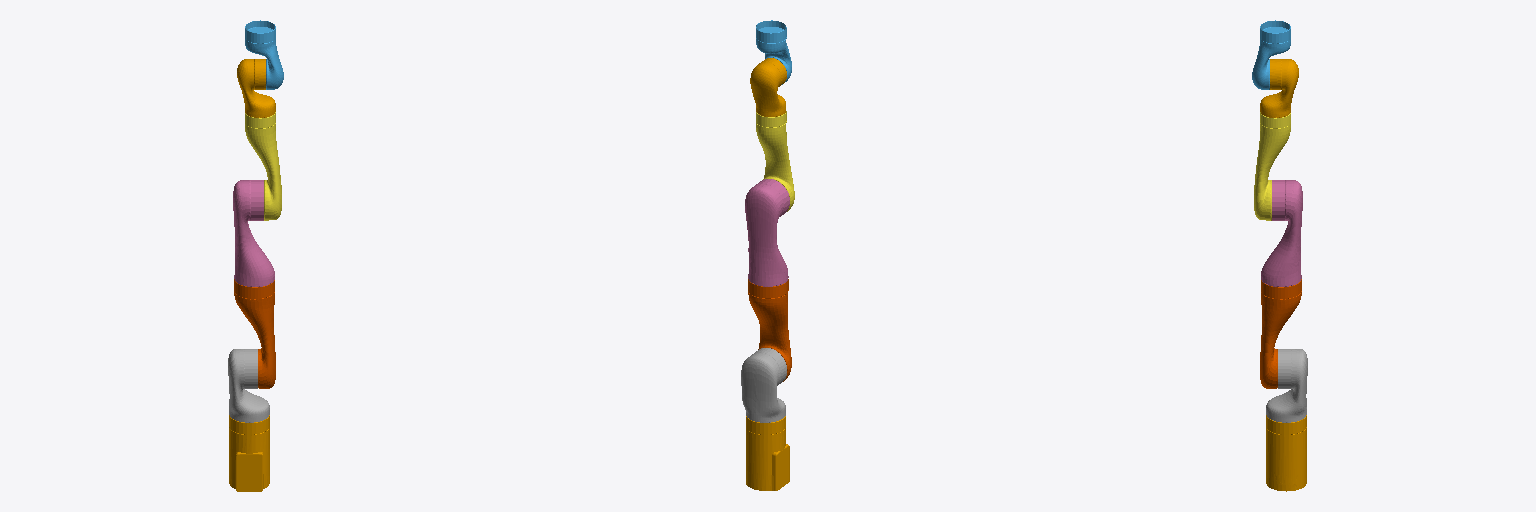
robot.urdf — gen3:
<?xml version="1.0" encoding="UTF-8"?>
<robot name="gen3">
  <joint name="end_effector" type="fixed">
    <origin xyz="-0.061525 -0. 0. " rpy="3.1415927 0. -0. "/>
    <parent link="bracelet_link"/>
    <child link="end_effector_link"/>
  </joint>
  <joint name="joint_1" type="continuous">
    <origin xyz="0. 0. 0.15643" rpy="-1.5707964 1.5707891 1.5707964"/>
    <parent link="base_link"/>
    <child link="shoulder_link"/>
    <axis xyz="1. 0. 0."/>
  </joint>
  <joint name="joint_2" type="revolute">
    <origin xyz="-0.12838 0.005375 0. " rpy="0. 0. -1.5708"/>
    <parent link="shoulder_link"/>
    <child link="half_arm_1_link"/>
    <axis xyz="1. 0. 0."/>
    <limit lower="-2.4099999" upper="2.4099999" effort="2340." velocity="1.3963"/>
  </joint>
  <joint name="joint_3" type="continuous">
    <origin xyz="-0.006375 -0.21038 0. " rpy="0. 0. 1.5707998"/>
    <parent link="half_arm_1_link"/>
    <child link="half_arm_2_link"/>
    <axis xyz="1. 0. 0."/>
  </joint>
  <joint name="joint_4" type="revolute">
    <origin xyz="-0.21038 0.006375 0. " rpy="0. 0. -1.5707998"/>
    <parent link="half_arm_2_link"/>
    <child link="forearm_link"/>
    <axis xyz="1. 0. 0."/>
    <limit lower="-2.6599999" upper="2.6599999" effort="2340." velocity="1.3963"/>
  </joint>
  <joint name="joint_5" type="continuous">
    <origin xyz="-0.006375 -0.20843 0. " rpy="0. 0. 1.5707998"/>
    <parent link="forearm_link"/>
    <child link="spherical_wrist_1_link"/>
    <axis xyz="1. 0. 0."/>
  </joint>
  <joint name="joint_6" type="revolute">
    <origin xyz="-0.10593 0.0001751 0. " rpy="0. 0. -1.5707998"/>
    <parent link="spherical_wrist_1_link"/>
    <child link="spherical_wrist_2_link"/>
    <axis xyz="1. 0. 0."/>
    <limit lower="-2.2299999" upper="2.2299999" effort="540." velocity="1.2218"/>
  </joint>
  <joint name="joint_7" type="continuous">
    <origin xyz="-0.0001751 -0.10593 0. " rpy="0. 0. 1.5707998"/>
    <parent link="spherical_wrist_2_link"/>
    <child link="bracelet_link"/>
    <axis xyz="1. 0. 0."/>
  </joint>
  <joint name="root_joint" type="fixed">
    <origin xyz="0. 0. 0." rpy="0. 0. 0."/>
    <parent link="gen3"/>
    <child link="base_link"/>
  </joint>
  <link name="base_link">
    <inertial>
      <origin xyz="-0.000648 -0.000166 0.084487" rpy="0. 0. 0."/>
      <mass value="1.697"/>
      <inertia ixx="0.004622" ixy="0." ixz="0." iyy="0.004495" iyz="0." izz="0.002079"/>
    </inertial>
    <visual>
      <origin xyz="0. 0. 0." rpy="0. 0. 0."/>
      <geometry>
        <mesh filename="meshes/base_link_visuals_mesh_0.obj" scale="1. 1. 1."/>
      </geometry>
    </visual>
    <collision>
      <origin xyz="0. 0. 0." rpy="0. 0. 0."/>
      <geometry>
        <mesh filename="meshes/base_link_collisions_mesh_0.obj" scale="1. 1. 1."/>
      </geometry>
    </collision>
  </link>
  <link name="bracelet_link">
    <inertial>
      <origin xyz="-0.000093 0.000132 -0.022905" rpy="0. 0. 0."/>
      <mass value="0.364"/>
      <inertia ixx="0.000214" ixy="0." ixz="0." iyy="0.000223" iyz="0." izz="0.00024"/>
    </inertial>
    <visual>
      <origin xyz="0. 0. 0." rpy="-0.0000001 1.5707964 0. "/>
      <geometry>
        <mesh filename="meshes/bracelet_link_visuals_mesh_0.obj" scale="1. 1. 1."/>
      </geometry>
    </visual>
    <collision>
      <origin xyz="0. 0. 0." rpy="-0.0000001 1.5707964 0. "/>
      <geometry>
        <mesh filename="meshes/bracelet_link_collisions_mesh_0.obj" scale="1. 1. 1."/>
      </geometry>
    </collision>
  </link>
  <link name="end_effector_link">
    <inertial>
      <origin xyz="0. 0. 0." rpy="0. 0. 0."/>
      <mass value="0.0000001"/>
      <inertia ixx="0.001" ixy="0." ixz="0." iyy="0.001" iyz="0." izz="0.001"/>
    </inertial>
  </link>
  <link name="forearm_link">
    <inertial>
      <origin xyz="-0.000018 -0.075478 -0.015006" rpy="0. 0. 0."/>
      <mass value="0.9302"/>
      <inertia ixx="0.008147" ixy="0." ixz="0." iyy="0.000631" iyz="0." izz="0.008316"/>
    </inertial>
    <visual>
      <origin xyz="0. -0. 0." rpy="0.0000001 1.5707964 0. "/>
      <geometry>
        <mesh filename="meshes/forearm_link_visuals_mesh_0.obj" scale="1. 1. 1."/>
      </geometry>
    </visual>
    <collision>
      <origin xyz="0. -0. 0." rpy="0.0000001 1.5707964 0. "/>
      <geometry>
        <mesh filename="meshes/forearm_link_collisions_mesh_0.obj" scale="1. 1. 1."/>
      </geometry>
    </collision>
  </link>
  <link name="gen3"/>
  <link name="half_arm_1_link">
    <inertial>
      <origin xyz="-0.000044 -0.09958 -0.013278" rpy="0. 0. 0."/>
      <mass value="1.1636"/>
      <inertia ixx="0.011088" ixy="0." ixz="0." iyy="0.001072" iyz="0." izz="0.011255"/>
    </inertial>
    <visual>
      <origin xyz="0. 0. 0." rpy="0.0000001 1.5707964 0. "/>
      <geometry>
        <mesh filename="meshes/half_arm_1_link_visuals_mesh_0.obj" scale="1. 1. 1."/>
      </geometry>
    </visual>
    <collision>
      <origin xyz="0. 0. 0." rpy="0.0000001 1.5707964 0. "/>
      <geometry>
        <mesh filename="meshes/half_arm_1_link_collisions_mesh_0.obj" scale="1. 1. 1."/>
      </geometry>
    </collision>
  </link>
  <link name="half_arm_2_link">
    <inertial>
      <origin xyz="-0.000044 -0.006641 -0.117892" rpy="0. 0. 0."/>
      <mass value="1.1636"/>
      <inertia ixx="0.010932" ixy="0." ixz="0." iyy="0.011127" iyz="0." izz="0.001043"/>
    </inertial>
    <visual>
      <origin xyz="0. 0. 0." rpy="-0.0000001 1.5707964 0. "/>
      <geometry>
        <mesh filename="meshes/half_arm_2_link_visuals_mesh_0.obj" scale="1. 1. 1."/>
      </geometry>
    </visual>
    <collision>
      <origin xyz="0. 0. 0." rpy="-0.0000001 1.5707964 0. "/>
      <geometry>
        <mesh filename="meshes/half_arm_2_link_collisions_mesh_0.obj" scale="1. 1. 1."/>
      </geometry>
    </collision>
  </link>
  <link name="shoulder_link">
    <inertial>
      <origin xyz="-0.000023 -0.010364 -0.07336 " rpy="0. 0. 0."/>
      <mass value="1.3773"/>
      <inertia ixx="0.00457" ixy="0." ixz="0." iyy="0.004831" iyz="0." izz="0.001409"/>
    </inertial>
    <visual>
      <origin xyz="0. 0. 0." rpy="0. 1.5707964 0. "/>
      <geometry>
        <mesh filename="meshes/shoulder_link_visuals_mesh_0.obj" scale="1. 1. 1."/>
      </geometry>
    </visual>
    <collision>
      <origin xyz="0. 0. 0." rpy="0. 1.5707964 0. "/>
      <geometry>
        <mesh filename="meshes/shoulder_link_collisions_mesh_0.obj" scale="1. 1. 1."/>
      </geometry>
    </collision>
  </link>
  <link name="spherical_wrist_1_link">
    <inertial>
      <origin xyz="0.000001 -0.009432 -0.063883" rpy="0. 0. 0."/>
      <mass value="0.6781"/>
      <inertia ixx="0.001596" ixy="0." ixz="0." iyy="0.001607" iyz="0." izz="0.000399"/>
    </inertial>
    <visual>
      <origin xyz="0. 0. 0." rpy="-0.0000001 1.5707964 0. "/>
      <geometry>
        <mesh filename="meshes/spherical_wrist_1_link_visuals_mesh_0.obj" scale="1. 1. 1."/>
      </geometry>
    </visual>
    <collision>
      <origin xyz="0. 0. 0." rpy="-0.0000001 1.5707964 0. "/>
      <geometry>
        <mesh filename="meshes/spherical_wrist_1_link_collisions_mesh_0.obj" scale="1. 1. 1."/>
      </geometry>
    </collision>
  </link>
  <link name="spherical_wrist_2_link">
    <inertial>
      <origin xyz="0.000001 -0.045483 -0.00965 " rpy="0. 0. 0."/>
      <mass value="0.6781"/>
      <inertia ixx="0.001641" ixy="0." ixz="0." iyy="0.00041" iyz="0." izz="0.001641"/>
    </inertial>
    <visual>
      <origin xyz="-0. 0. 0." rpy="0.0000001 1.5707964 0. "/>
      <geometry>
        <mesh filename="meshes/spherical_wrist_2_link_visuals_mesh_0.obj" scale="1. 1. 1."/>
      </geometry>
    </visual>
    <collision>
      <origin xyz="-0. 0. 0." rpy="0.0000001 1.5707964 0. "/>
      <geometry>
        <mesh filename="meshes/spherical_wrist_2_link_collisions_mesh_0.obj" scale="1. 1. 1."/>
      </geometry>
    </collision>
  </link>
</robot>

--- What the picture shows (computed from the rendered views, not written in the file) ---
3 views of the same robot in one strip: view 1: azimuth 90°, elevation 25°; view 2: azimuth 150°, elevation 25°; view 3: azimuth 270°, elevation 25° (orthographic).
Model gen3 with 10 links and 9 joints (3 revolute, 4 continuous, 2 fixed), rooted at gen3, posed every joint at zero.
Visible links, largest first — view 1: half_arm_2_link, base_link, half_arm_1_link, shoulder_link, forearm_link, spherical_wrist_1_link, spherical_wrist_2_link; view 2: half_arm_2_link, base_link, shoulder_link, half_arm_1_link, forearm_link, spherical_wrist_1_link, spherical_wrist_2_link; view 3: half_arm_2_link, base_link, half_arm_1_link, shoulder_link, forearm_link, spherical_wrist_1_link, spherical_wrist_2_link.
Link boxes in pixels (left/top/right/bottom): half_arm_2_link: left=233, top=180, right=274, bottom=286; base_link: left=229, top=415, right=269, bottom=491; half_arm_1_link: left=234, top=279, right=275, bottom=388; shoulder_link: left=228, top=349, right=269, bottom=422; forearm_link: left=245, top=112, right=281, bottom=220; spherical_wrist_1_link: left=237, top=59, right=275, bottom=117; spherical_wrist_2_link: left=245, top=20, right=283, bottom=89; half_arm_2_link: left=745, top=179, right=789, bottom=286; base_link: left=746, top=416, right=789, bottom=490; shoulder_link: left=741, top=348, right=786, bottom=422; half_arm_1_link: left=748, top=279, right=791, bottom=381; forearm_link: left=756, top=111, right=794, bottom=211; spherical_wrist_1_link: left=750, top=58, right=786, bottom=116; spherical_wrist_2_link: left=756, top=20, right=791, bottom=84; half_arm_2_link: left=1261, top=180, right=1302, bottom=286; base_link: left=1266, top=415, right=1306, bottom=491; half_arm_1_link: left=1260, top=279, right=1301, bottom=388; shoulder_link: left=1266, top=349, right=1307, bottom=422; forearm_link: left=1254, top=112, right=1290, bottom=220; spherical_wrist_1_link: left=1260, top=59, right=1298, bottom=117; spherical_wrist_2_link: left=1252, top=20, right=1290, bottom=89.
Bounding box of the posed robot: 0.0928 × 0.1267 × 1.14 m (x, y, z).
7 mesh visuals loaded from 8 distinct referenced files (7 OBJ); not drawn: 1 (reference not matched to a file when rendering).